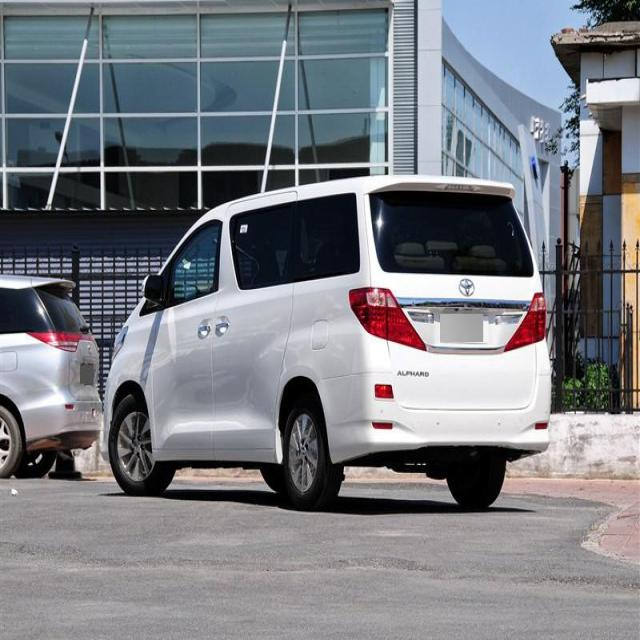back_glass: (366, 190, 534, 278)
back_left_side_light: (348, 283, 428, 358)
back_right_side_light: (500, 290, 548, 355)
door: (219, 209, 300, 459)
front_left_side_door: (148, 201, 226, 466)
front_left_side_light: (104, 317, 138, 375)
front_left_side_mirror: (139, 272, 174, 304)
rear_bumper: (338, 361, 562, 457)
wheel: (105, 379, 180, 504), (273, 377, 342, 512), (437, 440, 508, 512)
